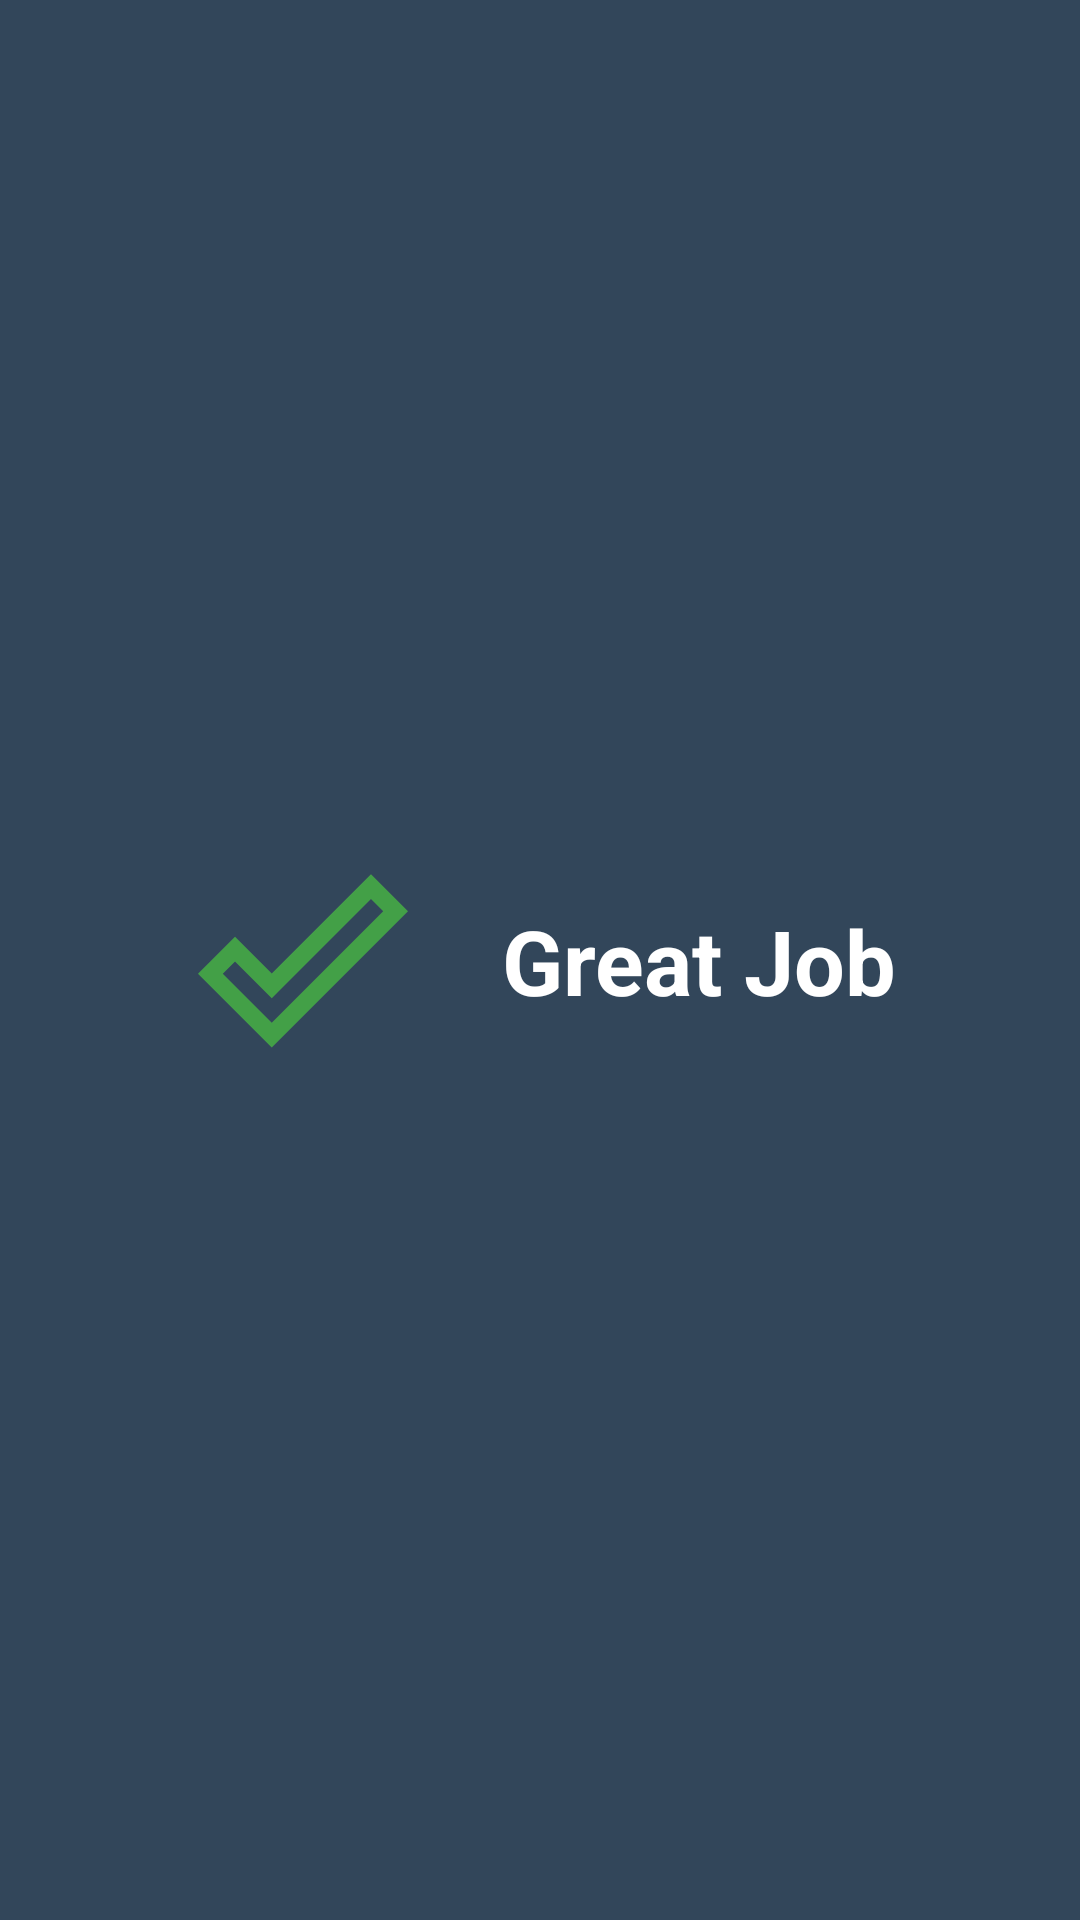

Screen size 1080px×1920px. Icon name, then its center in pixels as (x,y):
riddle solved right: (303,960)
